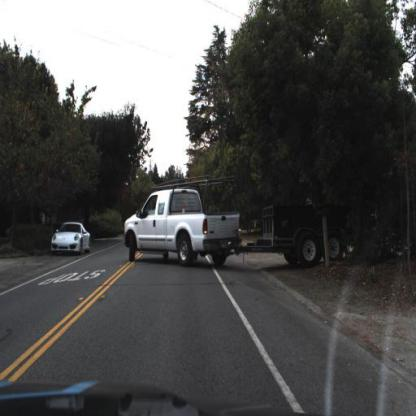car: (124, 187, 357, 264), (50, 222, 88, 258)
